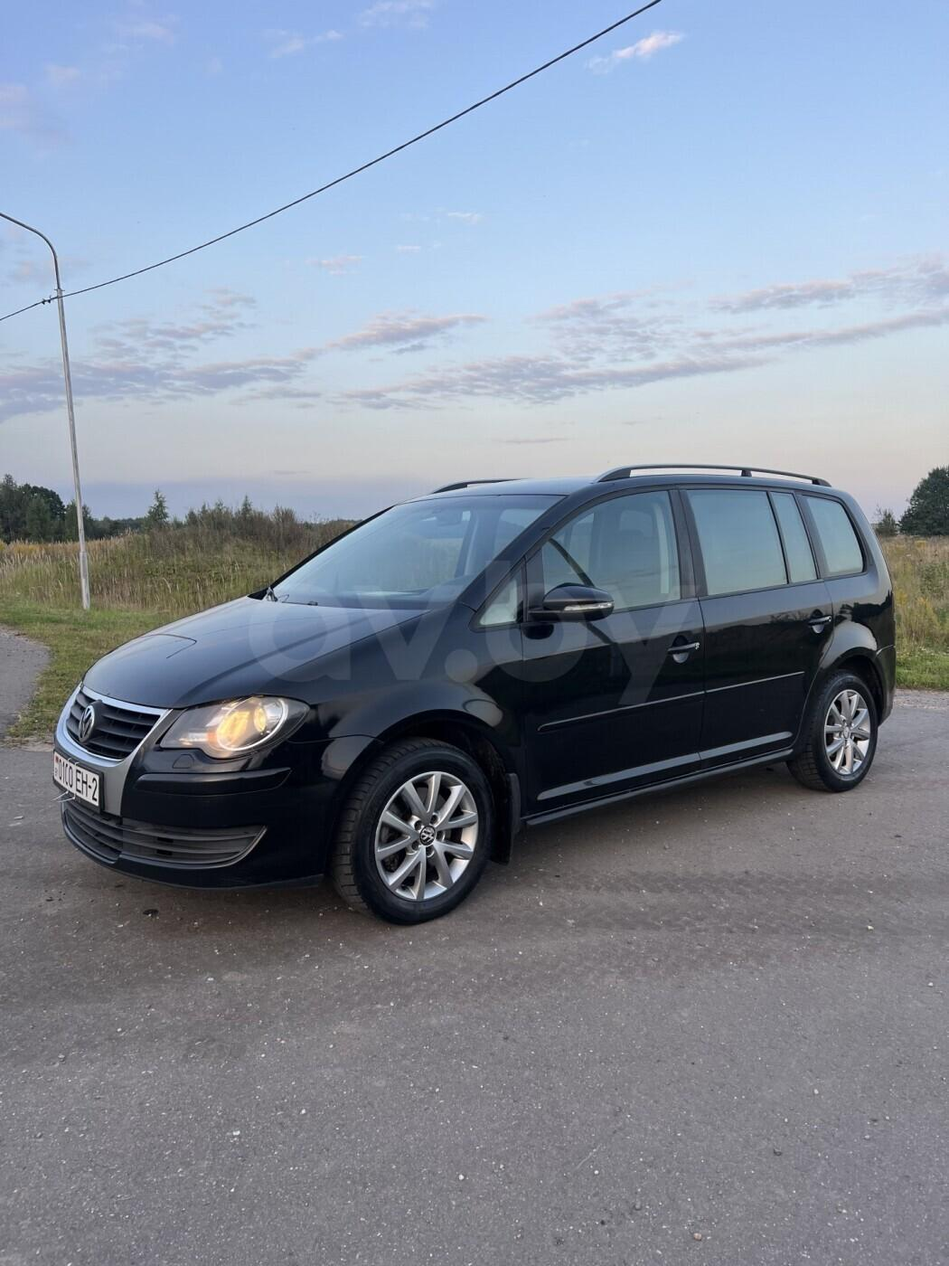Touran_2006-2010: (43, 465, 904, 919)
